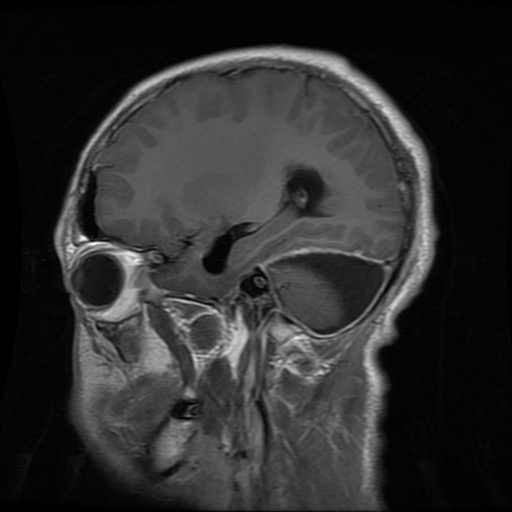glioma: (272, 251, 384, 335)
